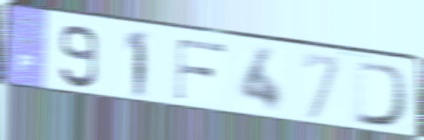1: (122, 29, 151, 100)
4: (236, 44, 286, 117)
7: (300, 50, 346, 122)
9: (57, 24, 100, 89)
D: (352, 58, 414, 130)
F: (172, 37, 229, 103)
